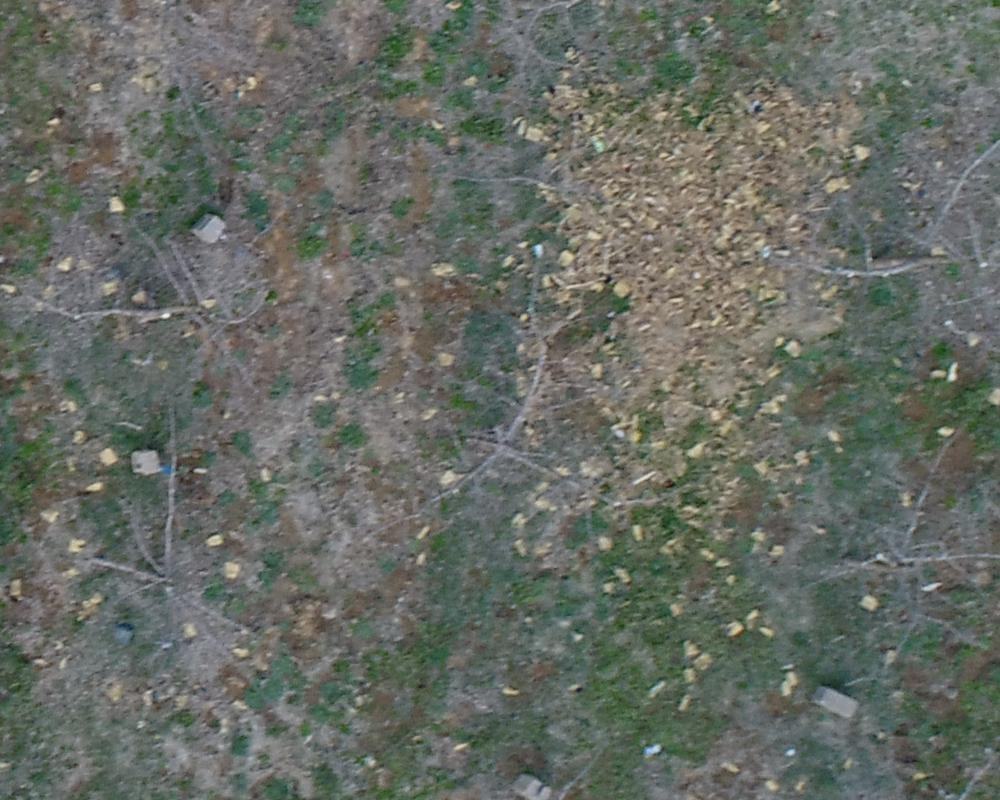apple: (10, 381, 279, 672), (743, 437, 990, 667), (382, 284, 616, 511), (52, 178, 304, 384), (747, 125, 990, 327), (405, 10, 725, 86)
